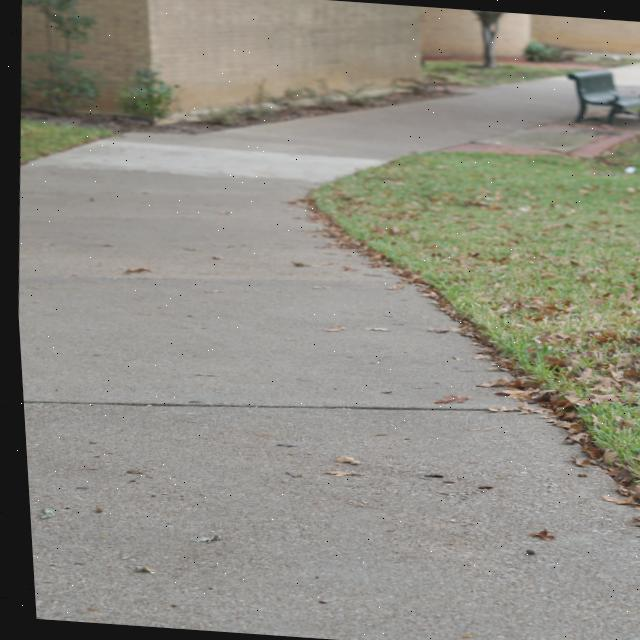Obstacle: (566, 70, 640, 124)
Sidewalk: (14, 77, 640, 640), (609, 62, 640, 86)
